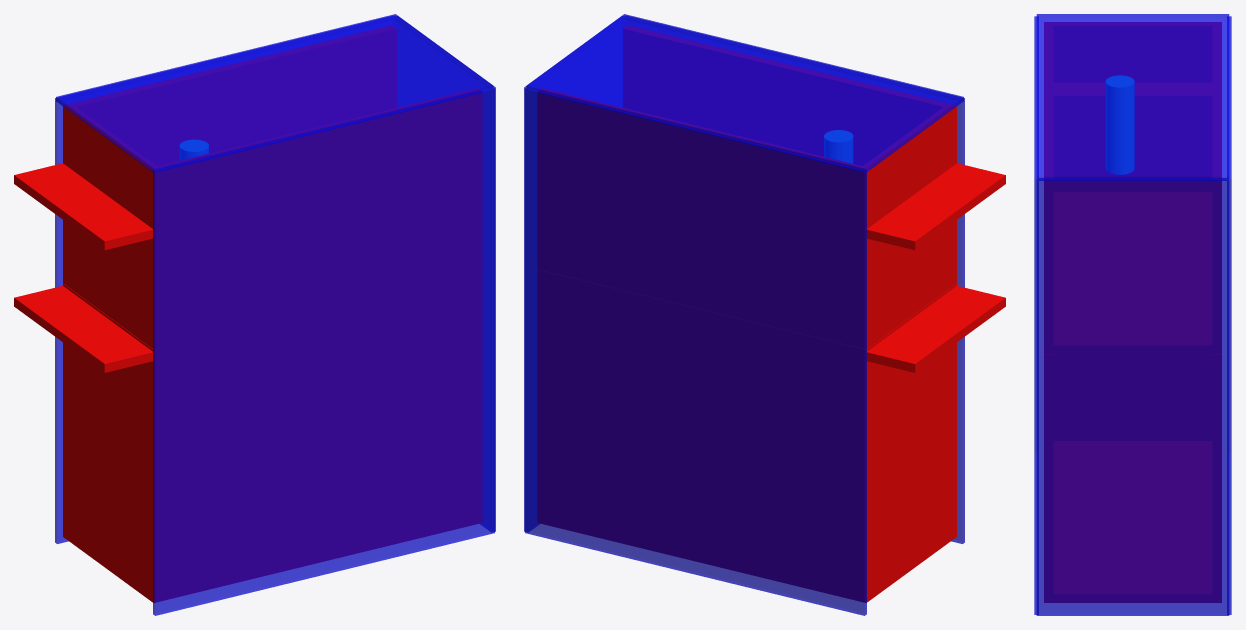
File: env2.dae
3 views of the same model, side by side, from view 1: azimuth 30°, elevation 25°; view 2: azimuth 150°, elevation 25°; view 3: azimuth 270°, elevation 25° (orthographic).
Visible parts, largest first — view 1: base (×12); view 2: base (×13); view 3: base (×14).
Part boxes in pixels (x1=…): base (×12): x1=14, y1=14, x2=495, y2=615; base (×13): x1=524, y1=14, x2=1005, y2=615; base (×14): x1=1034, y1=14, x2=1231, y2=615.
Size of what is drawn, in the model's own units: 0.9125 by 0.41 by 1.
